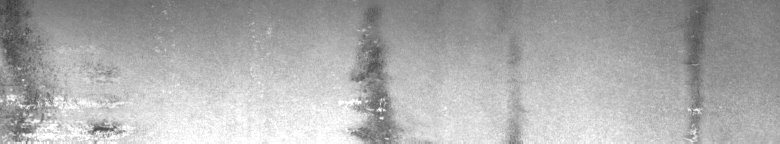hc: (344, 26, 404, 136)
